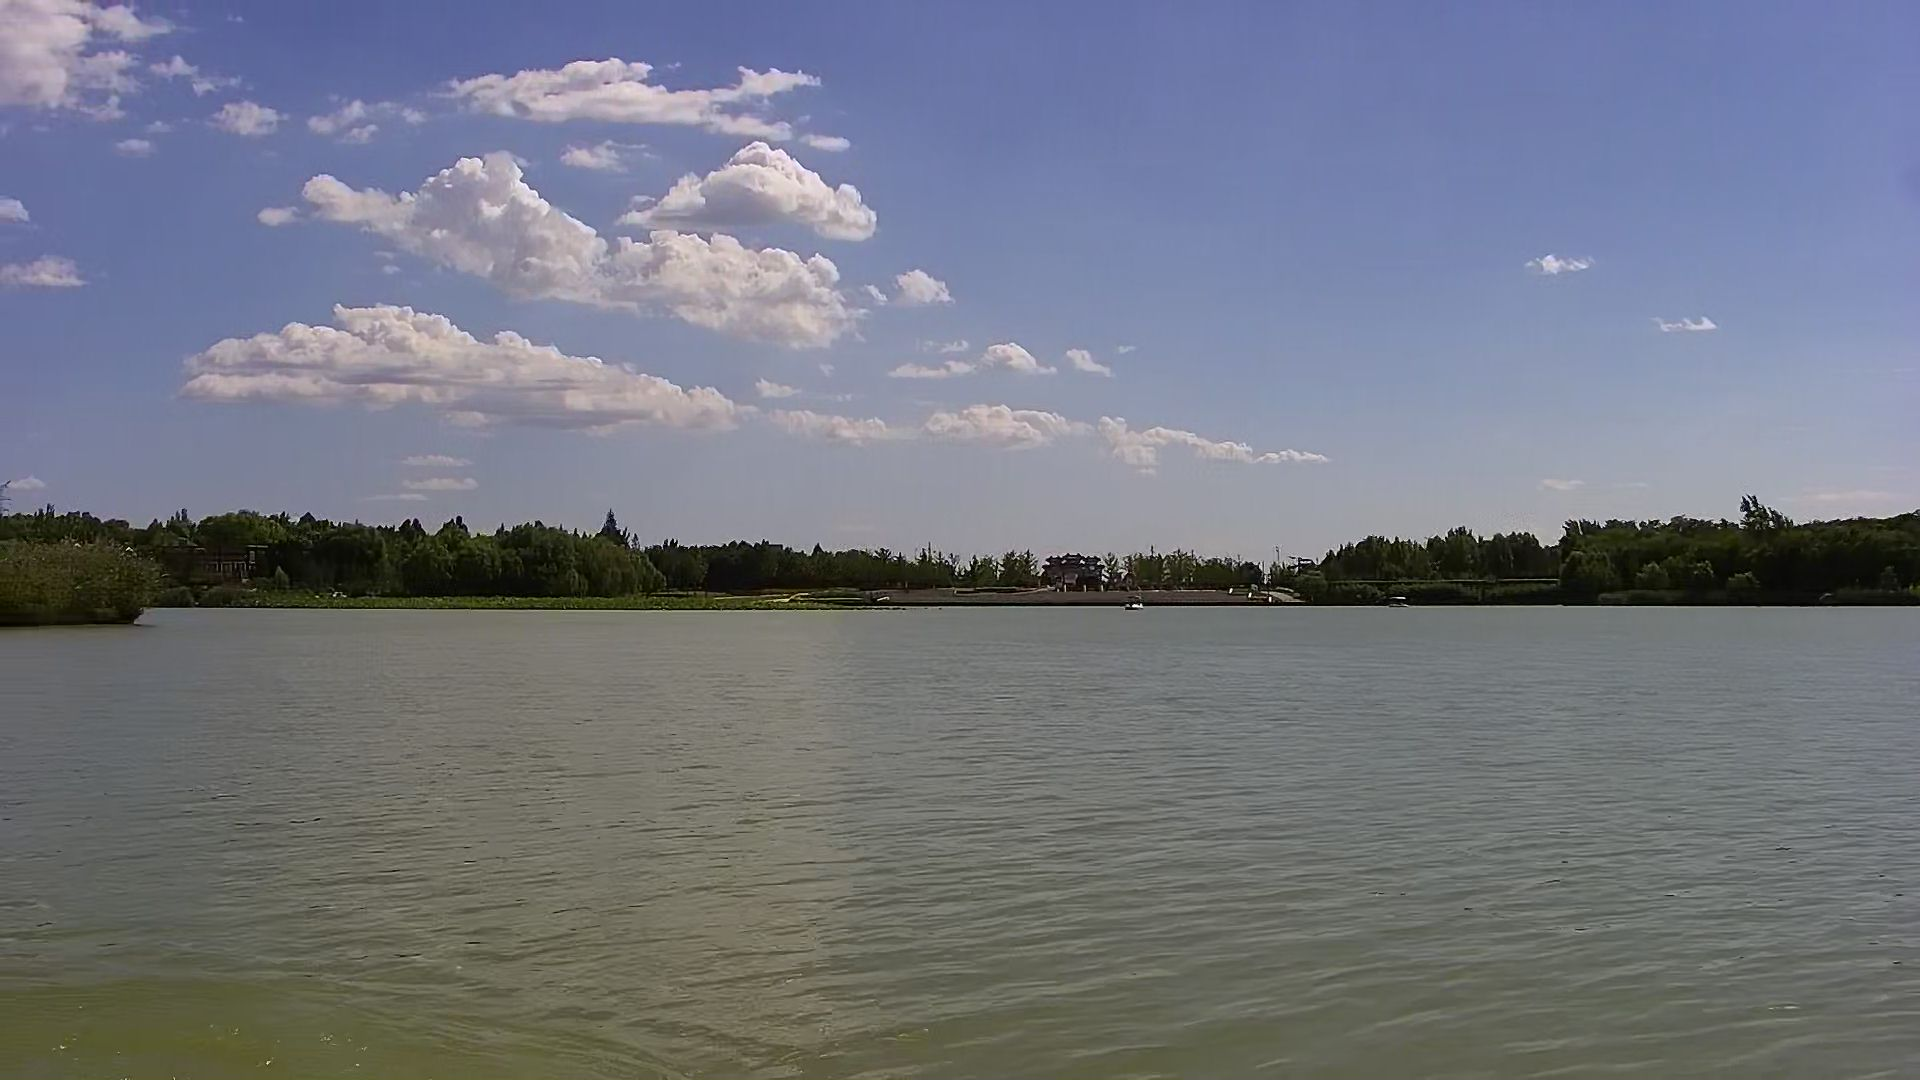grass: (269, 589, 907, 613)
